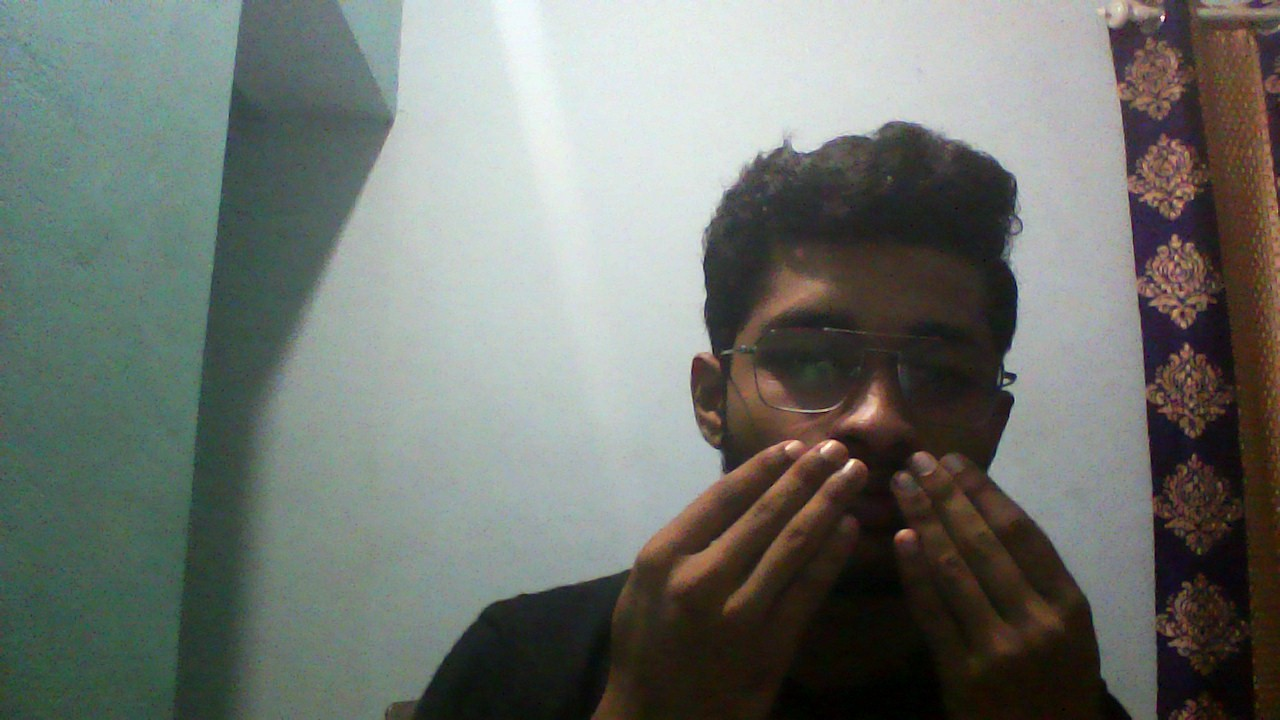Thanks: (604, 418, 1130, 695)
